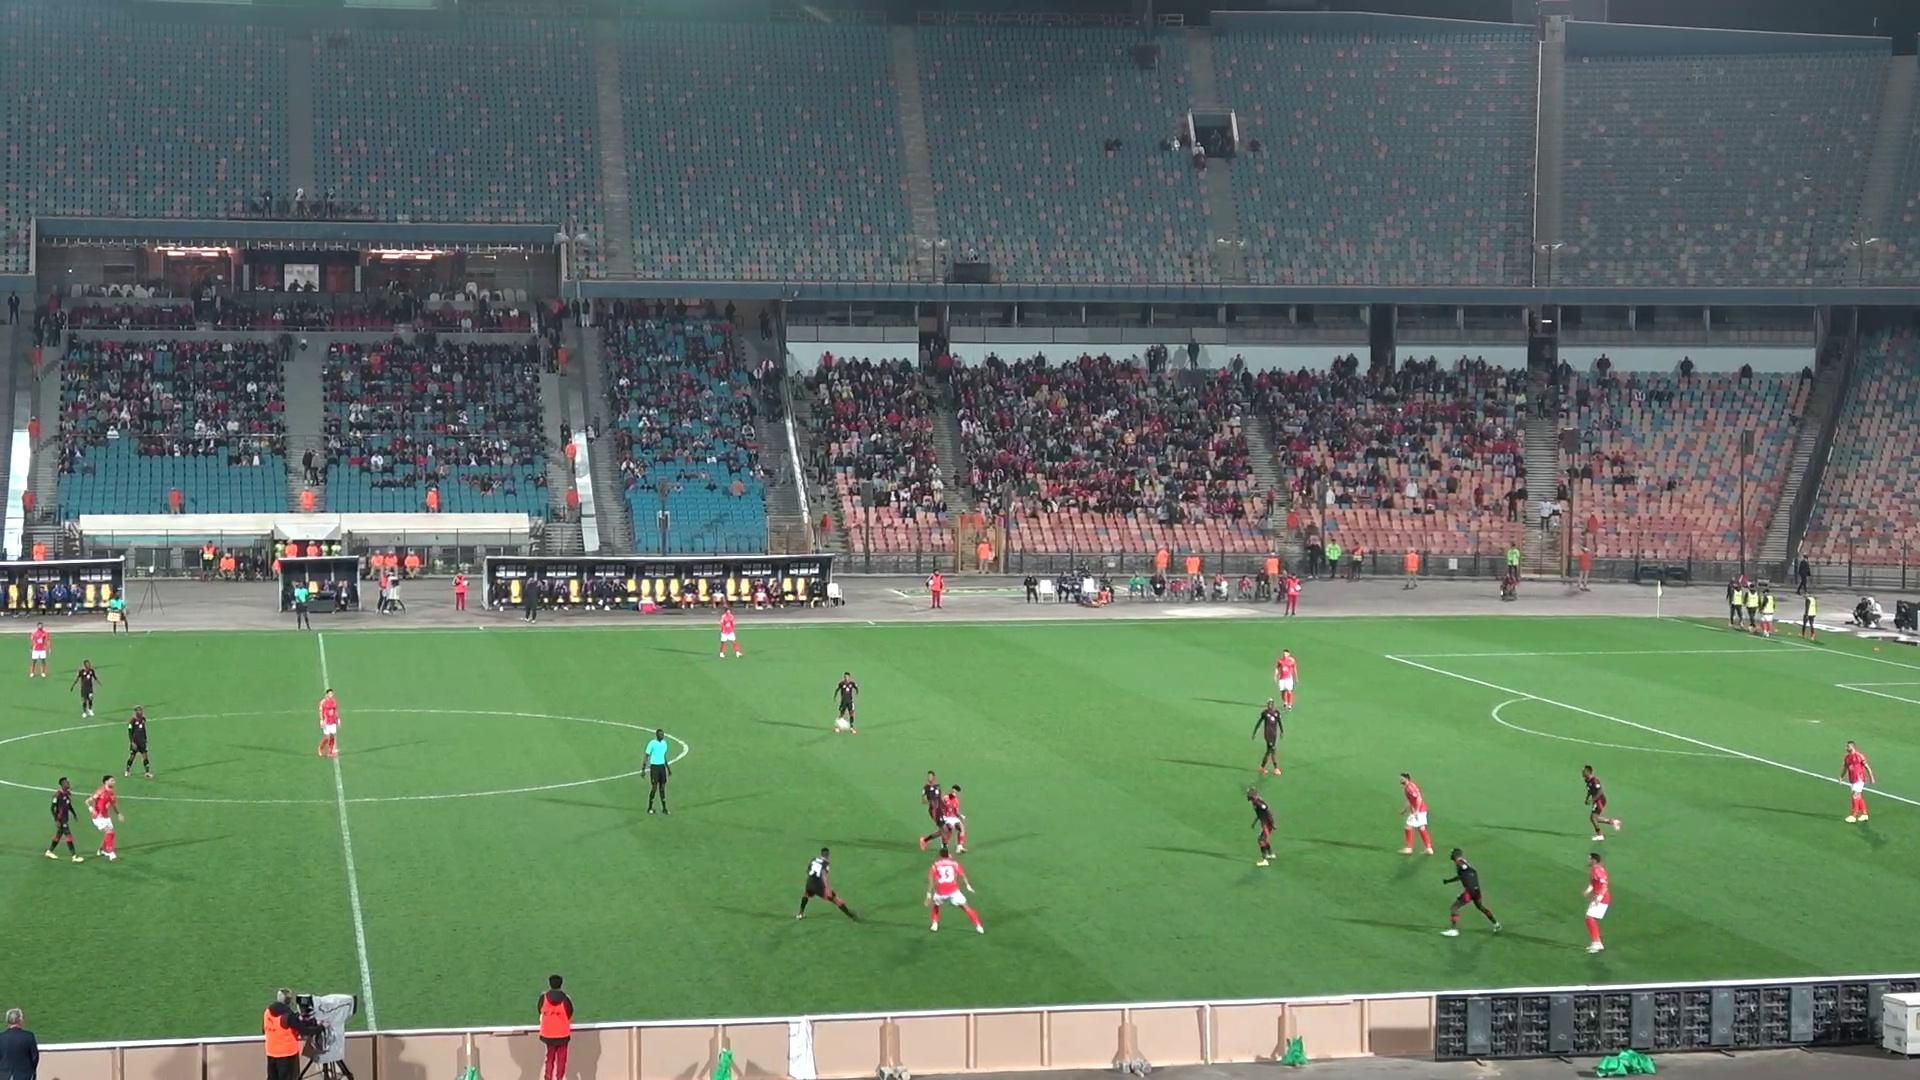Refree: (640, 729, 687, 812)
Team1: (924, 847, 982, 932), (86, 775, 124, 860), (1400, 773, 1432, 855), (1267, 649, 1299, 709), (316, 688, 342, 760), (26, 622, 51, 676), (717, 608, 742, 655)
Team2: (1582, 764, 1623, 841), (1250, 699, 1292, 774), (121, 705, 153, 778), (70, 658, 102, 717), (833, 673, 860, 732)
